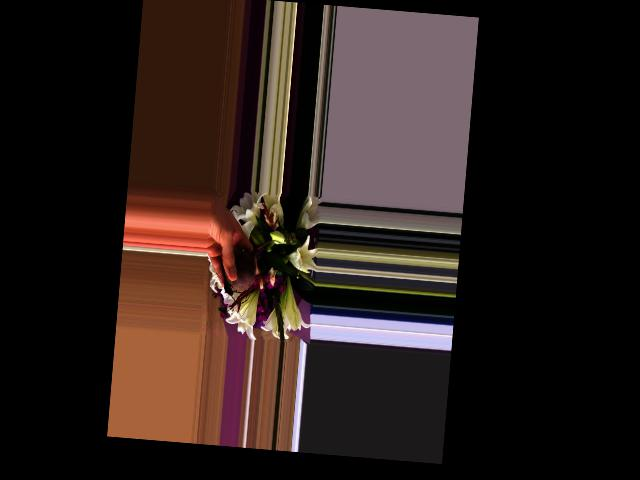beet: (222, 236, 280, 306)
